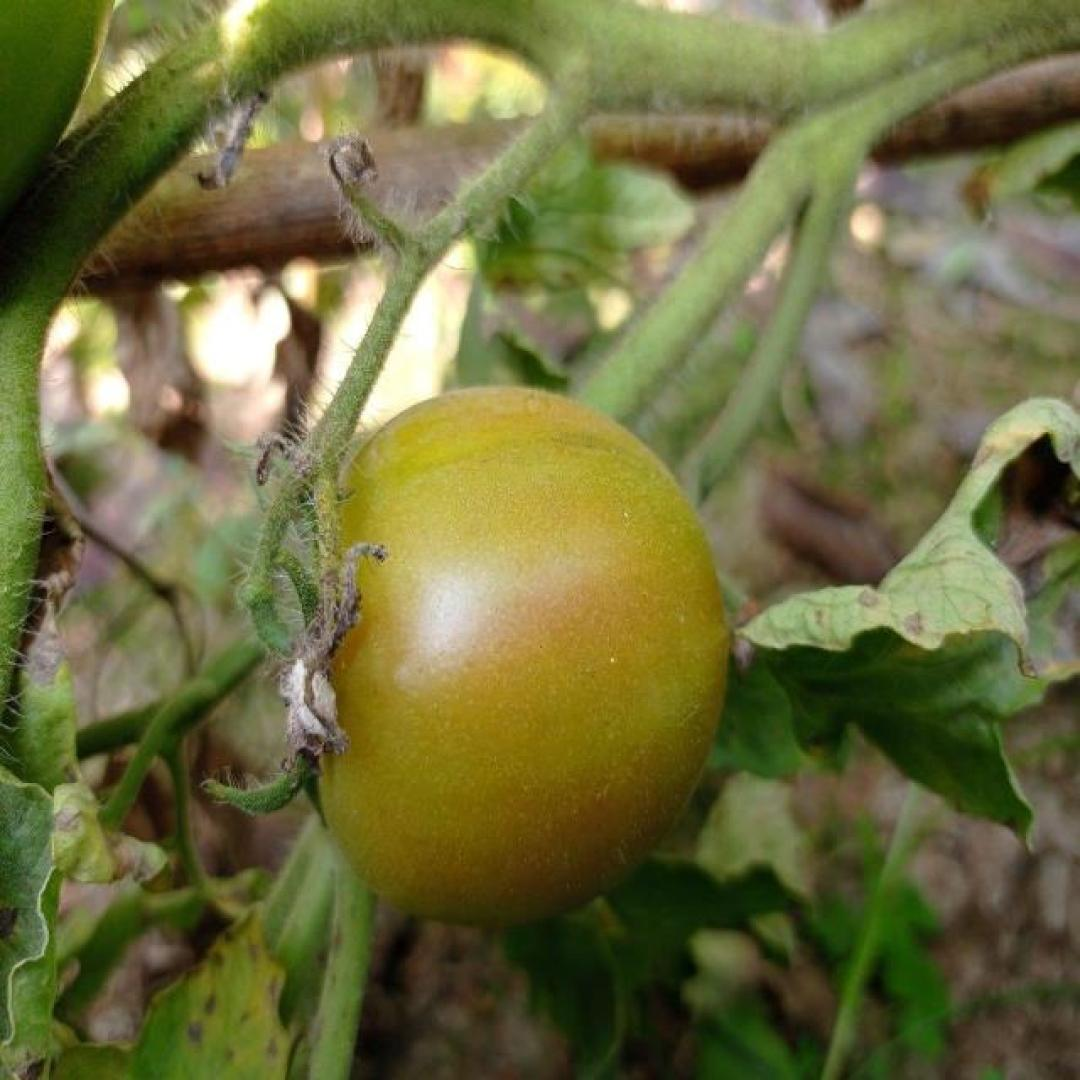setengah_matang: (292, 382, 731, 932)
